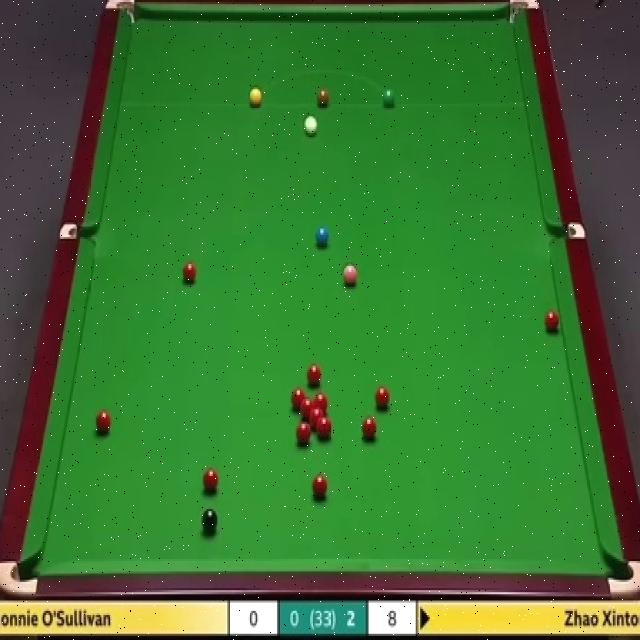black-ball: (201, 509, 219, 537)
blue-ball: (315, 224, 329, 249)
brown-ball: (317, 86, 329, 108)
green-ball: (382, 90, 395, 110)
pink-ball: (343, 263, 358, 286)
red-ball: (360, 416, 379, 444), (373, 384, 391, 412), (544, 307, 560, 335), (96, 407, 111, 435), (312, 472, 327, 500), (203, 468, 220, 492), (307, 363, 321, 389), (290, 387, 305, 411), (296, 421, 310, 446), (318, 416, 332, 440), (182, 260, 196, 283), (314, 393, 328, 413), (300, 398, 314, 417), (310, 408, 324, 427)
white-ball: (301, 112, 319, 139)
yellow-ball: (249, 87, 262, 109)
